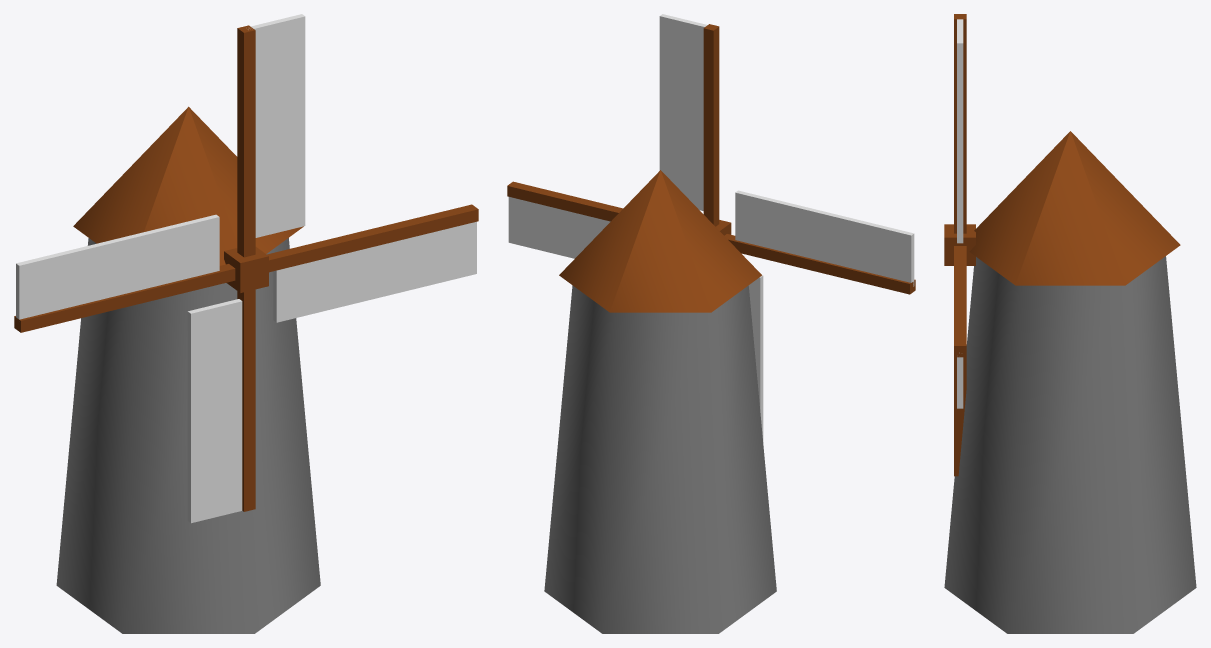
File: windmill.glb
3 views of the same model, side by side, from view 1: azimuth 30°, elevation 25°; view 2: azimuth 150°, elevation 25°; view 3: azimuth 270°, elevation 25° (orthographic). The views are drawn at different scales.
Parts seen in each view (by area): view 1: windmill, rotor; view 2: windmill, rotor; view 3: windmill, rotor.
Part boxes in pixels (x1,y1,x2,y2): windmill: [56, 106, 320, 633]; rotor: [14, 14, 478, 523]; windmill: [544, 170, 776, 633]; rotor: [507, 14, 915, 441]; windmill: [944, 131, 1196, 633]; rotor: [944, 14, 975, 476].
Size of the model in its own units: 1.6 by 2 by 0.8.
